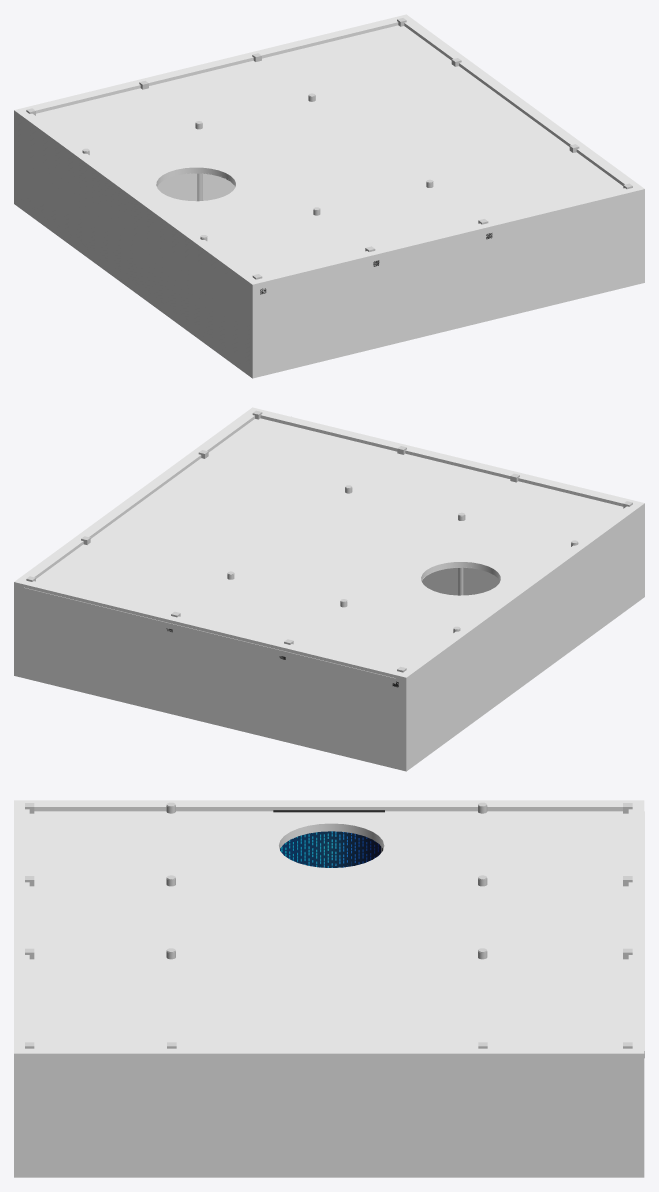
The model's file is 220216_export_01_back.gltf.
The picture shows the model from 3 angles, top to bottom: view 1: azimuth 30°, elevation 25°; view 2: azimuth 150°, elevation 25°; view 3: azimuth 270°, elevation 25°; orthographic projection. The views are drawn at different scales.
Visible parts, largest first — view 1: Rectangle035, Rectangle034, Rectangle006, Rectangle013, Rectangle023; view 2: Rectangle035, Rectangle034, Rectangle006, Rectangle010, Rectangle023; view 3: Rectangle035, Rectangle034, Rectangle006, Line001, Rectangle023.
Part boxes in pixels (bbox=[...]): Rectangle035: bbox=[36, 25, 623, 276]; Rectangle034: bbox=[14, 14, 644, 366]; Rectangle006: bbox=[14, 192, 644, 378]; Rectangle013: bbox=[157, 173, 235, 201]; Rectangle023: bbox=[26, 18, 632, 279]; Rectangle035: bbox=[24, 418, 623, 683]; Rectangle034: bbox=[14, 407, 644, 759]; Rectangle006: bbox=[14, 585, 644, 771]; Rectangle010: bbox=[422, 567, 499, 595]; Rectangle023: bbox=[26, 410, 632, 672]; Rectangle035: bbox=[29, 811, 644, 1058]; Rectangle034: bbox=[14, 800, 644, 1161]; Rectangle006: bbox=[14, 1162, 644, 1177]; Line001: bbox=[280, 831, 381, 867]; Rectangle023: bbox=[25, 802, 632, 1048].
Bounding box in the file's own units: 38 × 8.89 × 40.04.
